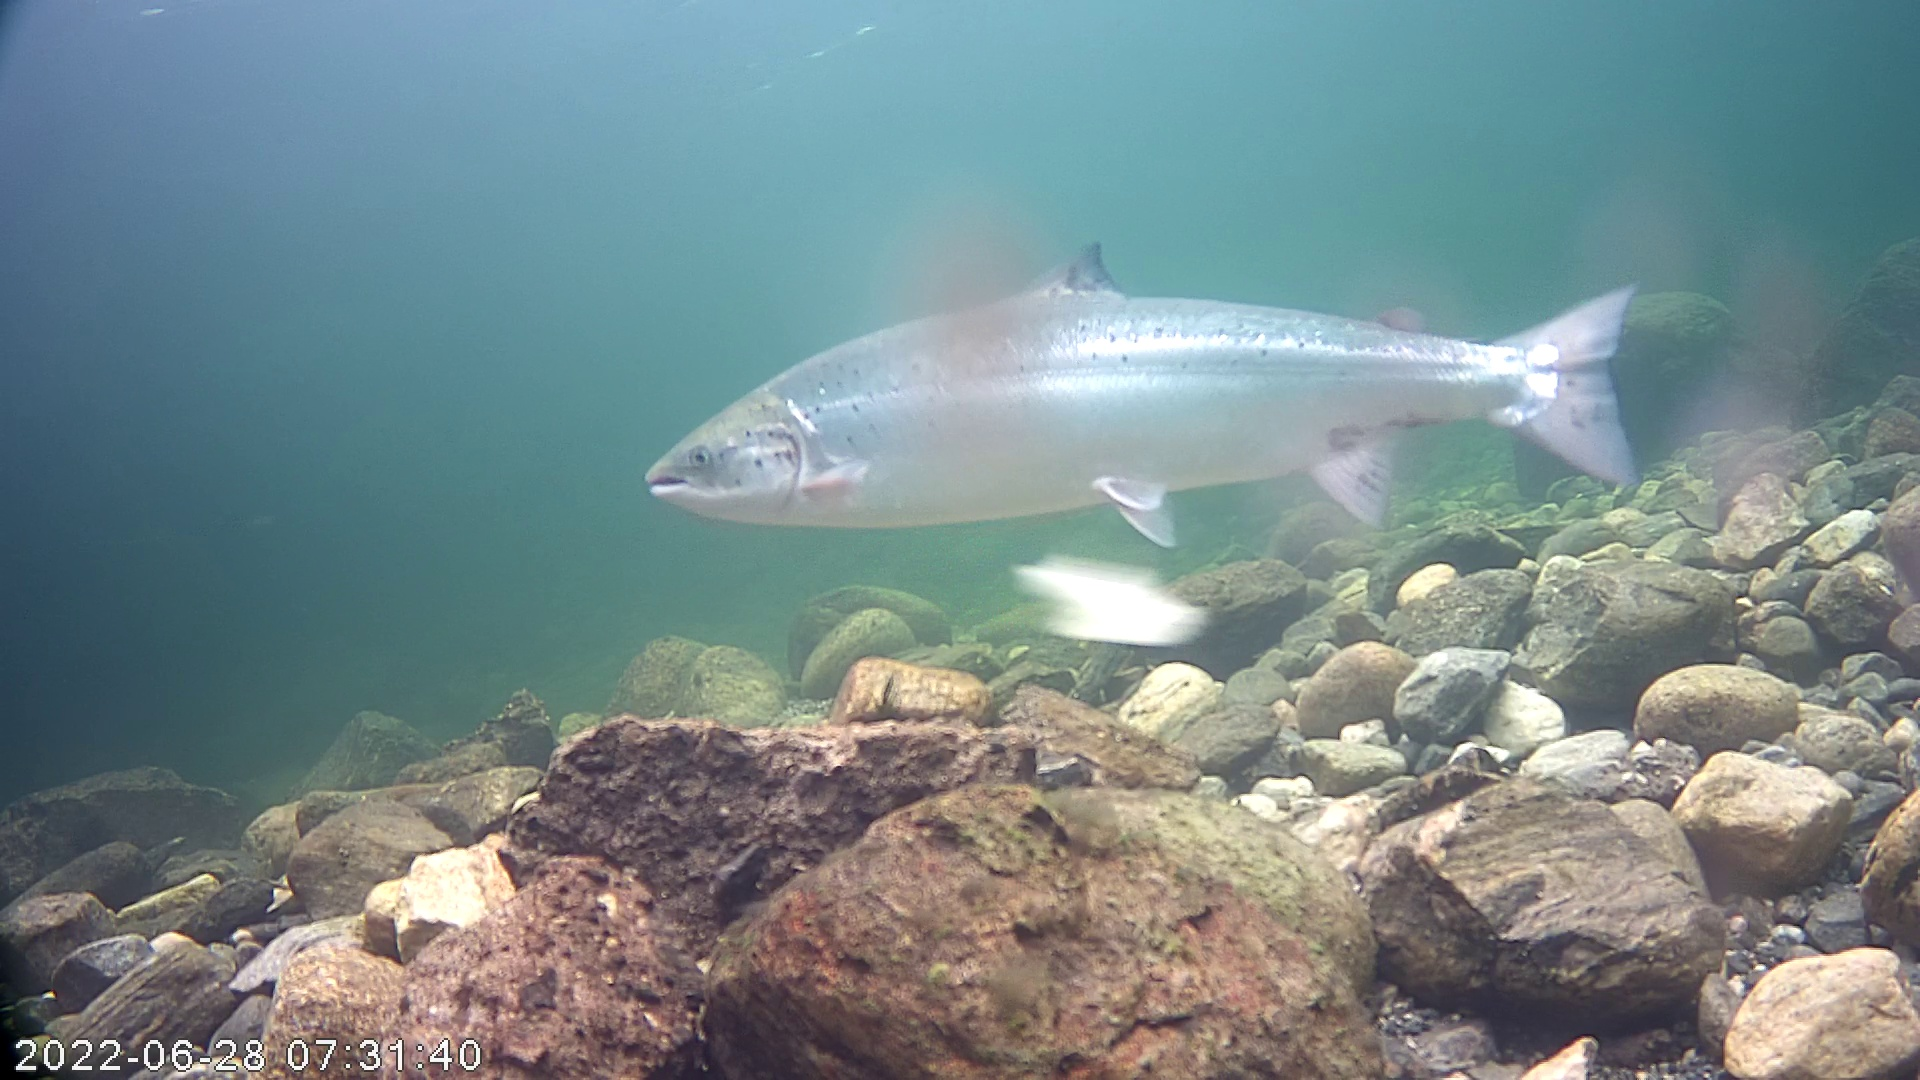salmon: (615, 142, 1687, 578)
